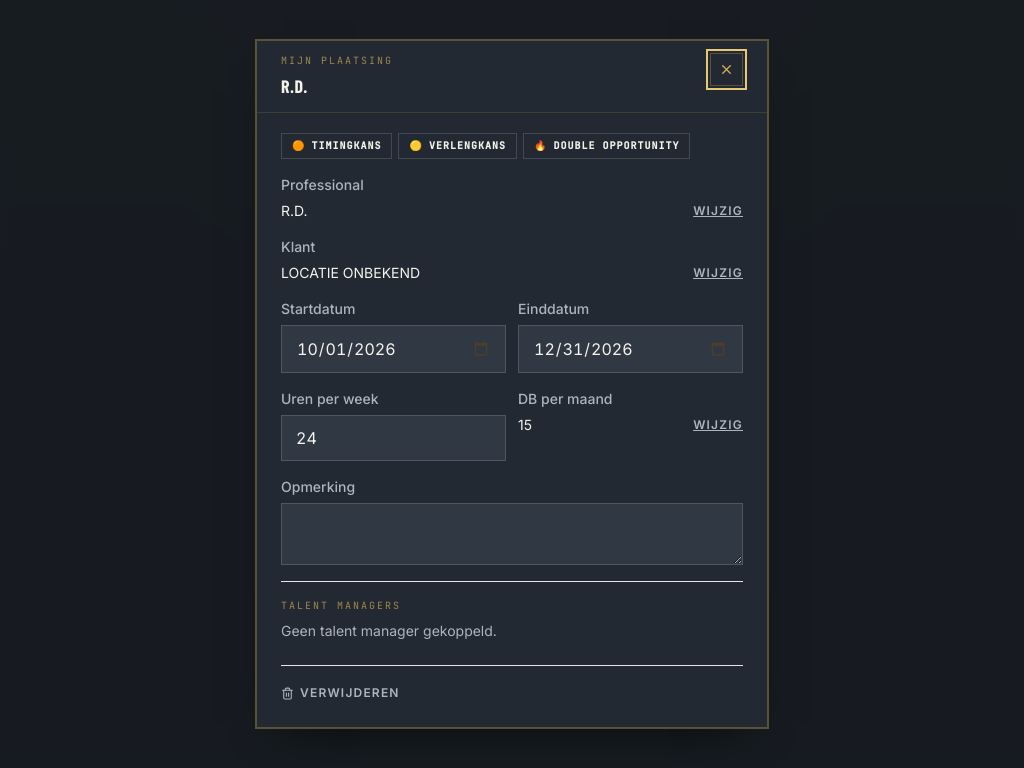
Test: PlacementDetailDrawer — privacy hotfix (display-only masking) › WIJZIG on DB per maand reveals the real decimal value, not the rounded display value — a blur without editing never corrupts the stored value
Later steps or results of the test are not shown.
# DB per maand's WIJZIG is the last one rendered (Professional, Klant, DB per maand order).
Click the button "Wijzig" in the row of "15".
click(718, 425)  # box [693,417,743,433]
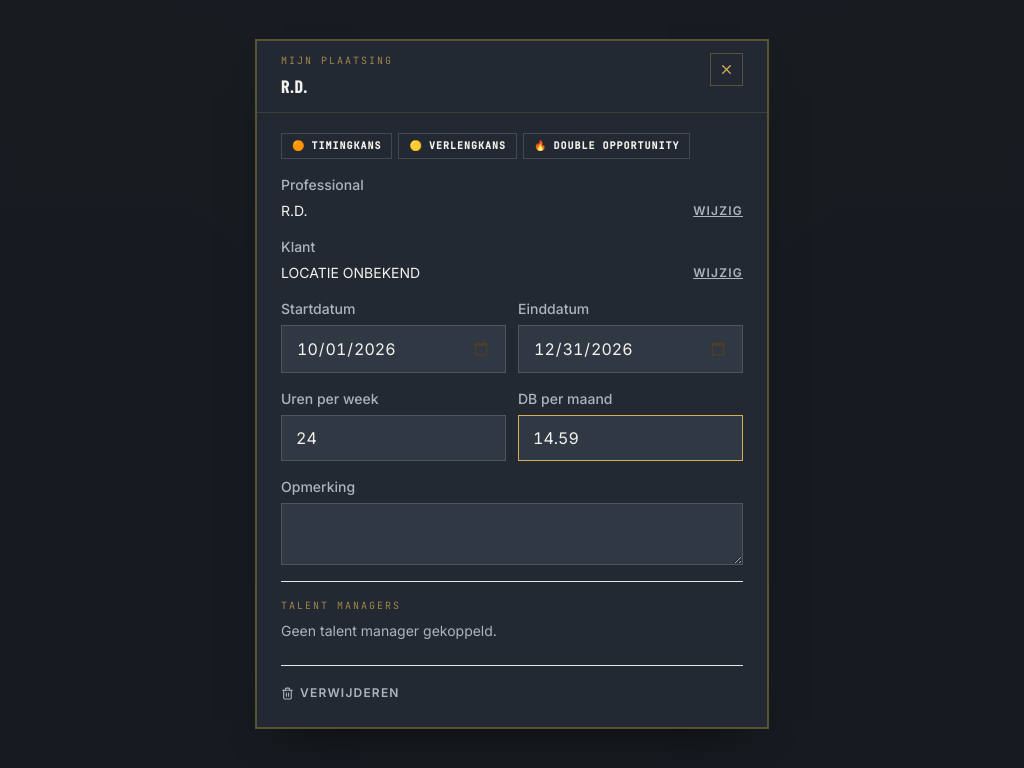
Now the number field showing "14.59" is shown, box [518,415,743,461]
